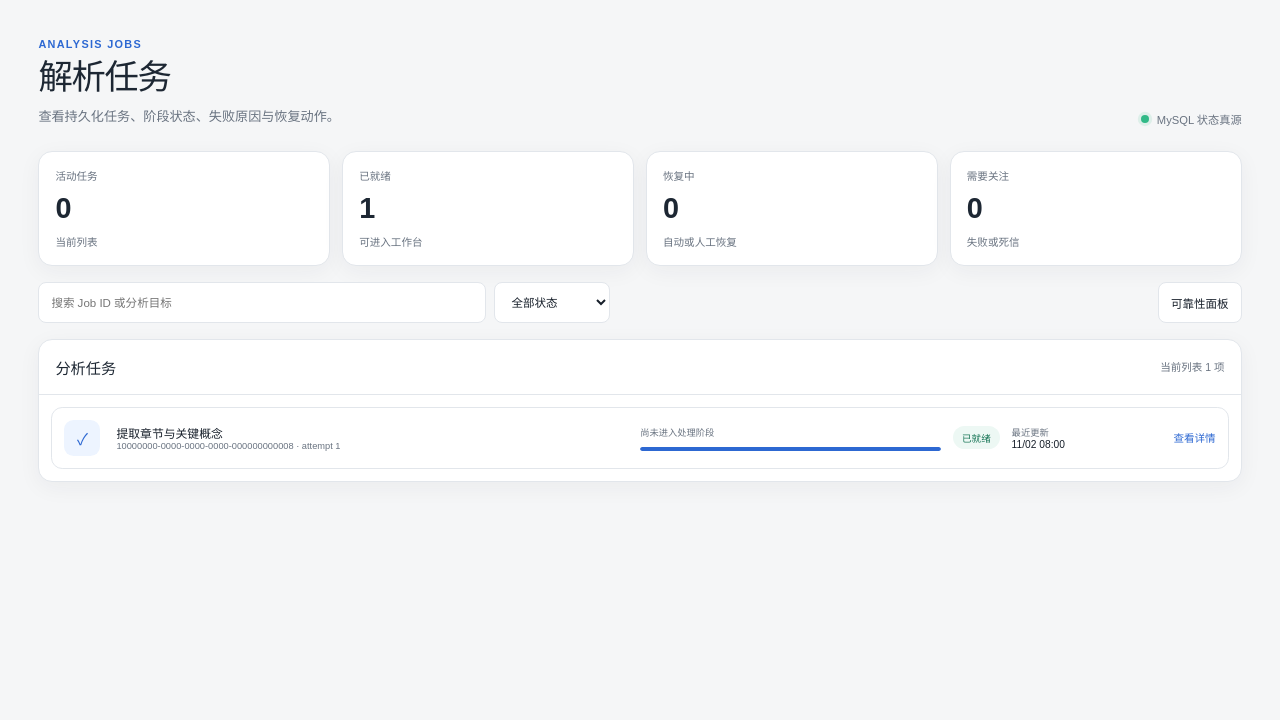
Test case: AnalysisJobsPage › keeps the persisted job usable when its media detail cannot be loaded
Click the button with test id "open-job". click: (640, 438)
box: x1=51 y1=407 x2=1229 y2=469
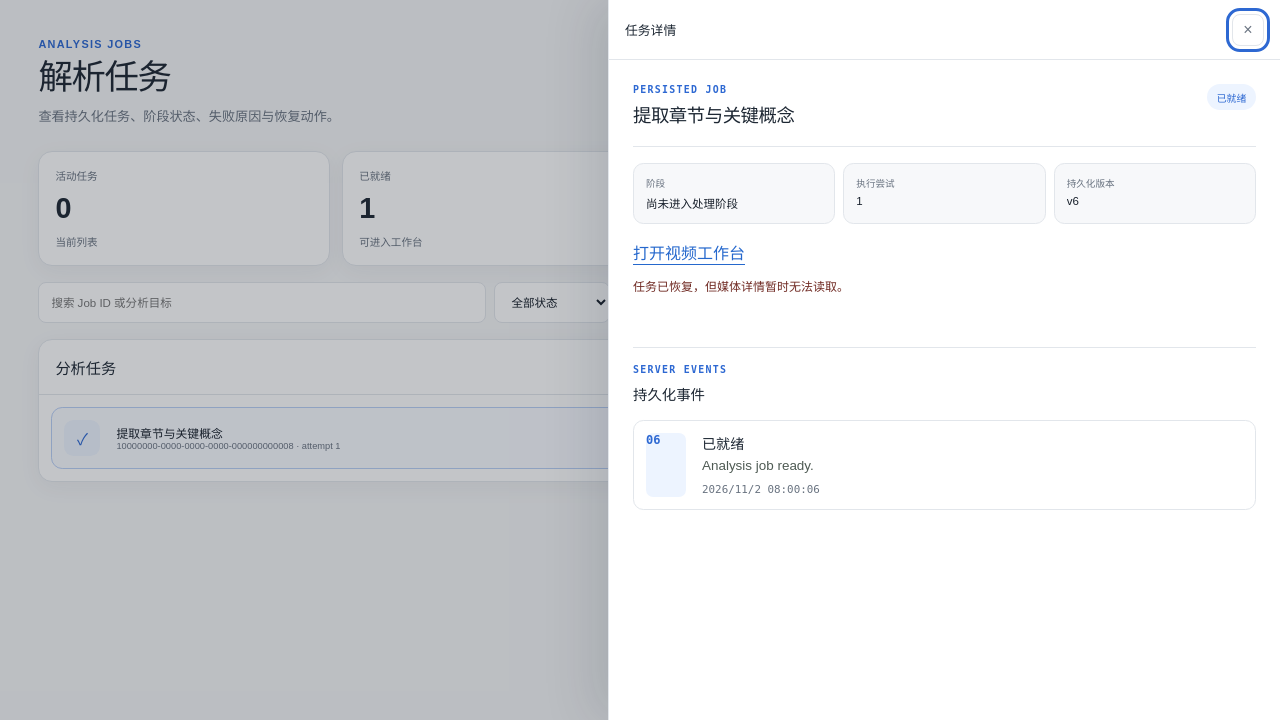
Expected: the text with test id "job-status" reads "已就绪", x1=1217 y1=93 x2=1246 y2=104
Expected: the list with test id "job-events" shows "Analysis job ready.", x1=702 y1=458 x2=814 y2=474
Expected: the message with test id "job-media-unavailable" shows "媒体详情暂时无法读取", x1=633 y1=280 x2=849 y2=294
